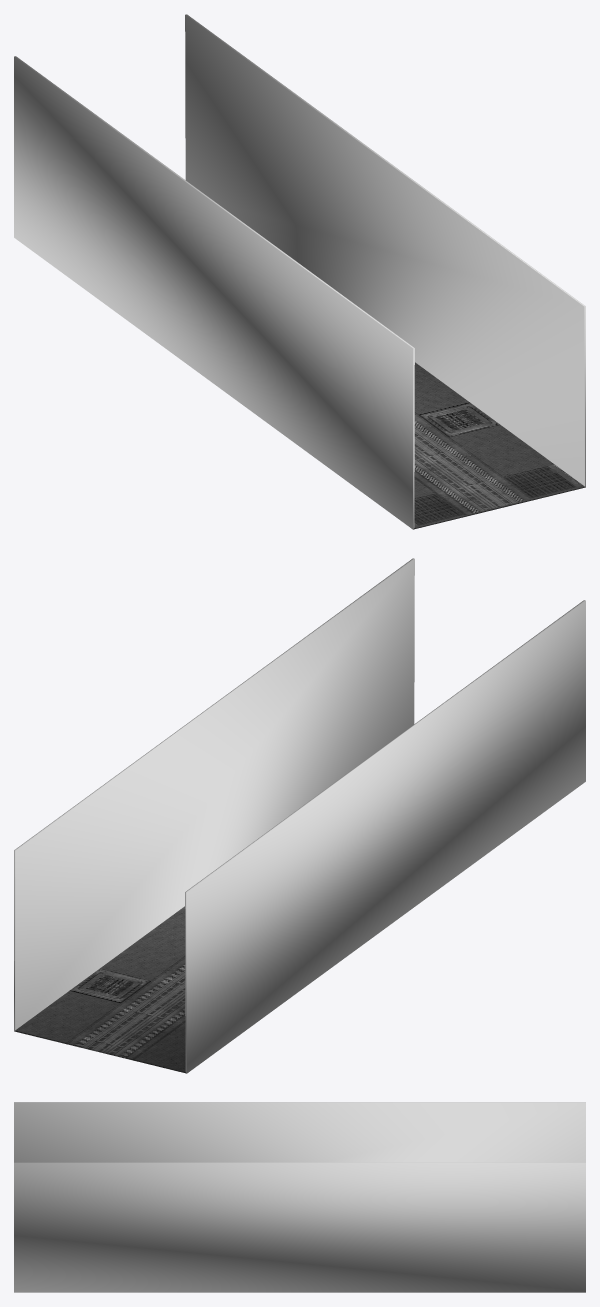
Rendered from corridor_c-5.fbx.
3 renders of one model, top to bottom at view 1: azimuth 30°, elevation 25°; view 2: azimuth 150°, elevation 25°; view 3: azimuth 270°, elevation 25°, orthographic. The views are drawn at different scales.
Parts seen in each view (by area): view 1: corridor C-5; view 2: corridor C-5; view 3: corridor C-5.
Boxes of the visible parts, x1=… form: corridor C-5: x1=14, y1=14, x2=585, y2=529; corridor C-5: x1=14, y1=558, x2=585, y2=1073; corridor C-5: x1=14, y1=1102, x2=585, y2=1292.
Bounding box in the file's own units: 361 × 361 × 1443.
